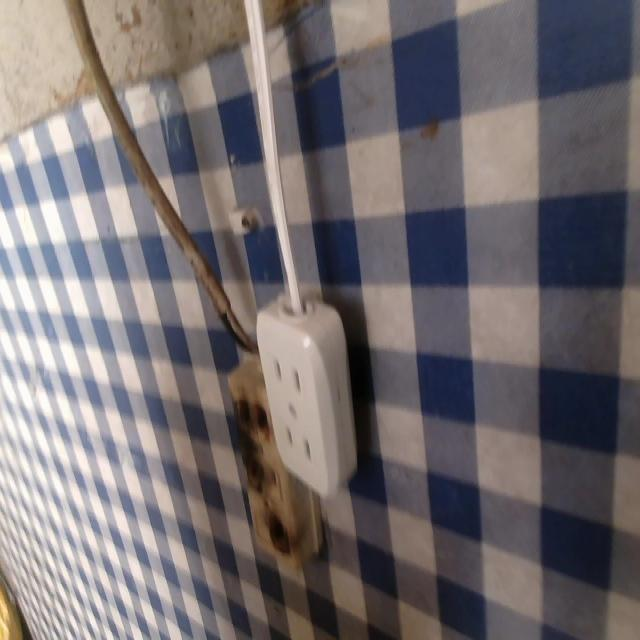-: (230, 389, 276, 443)
